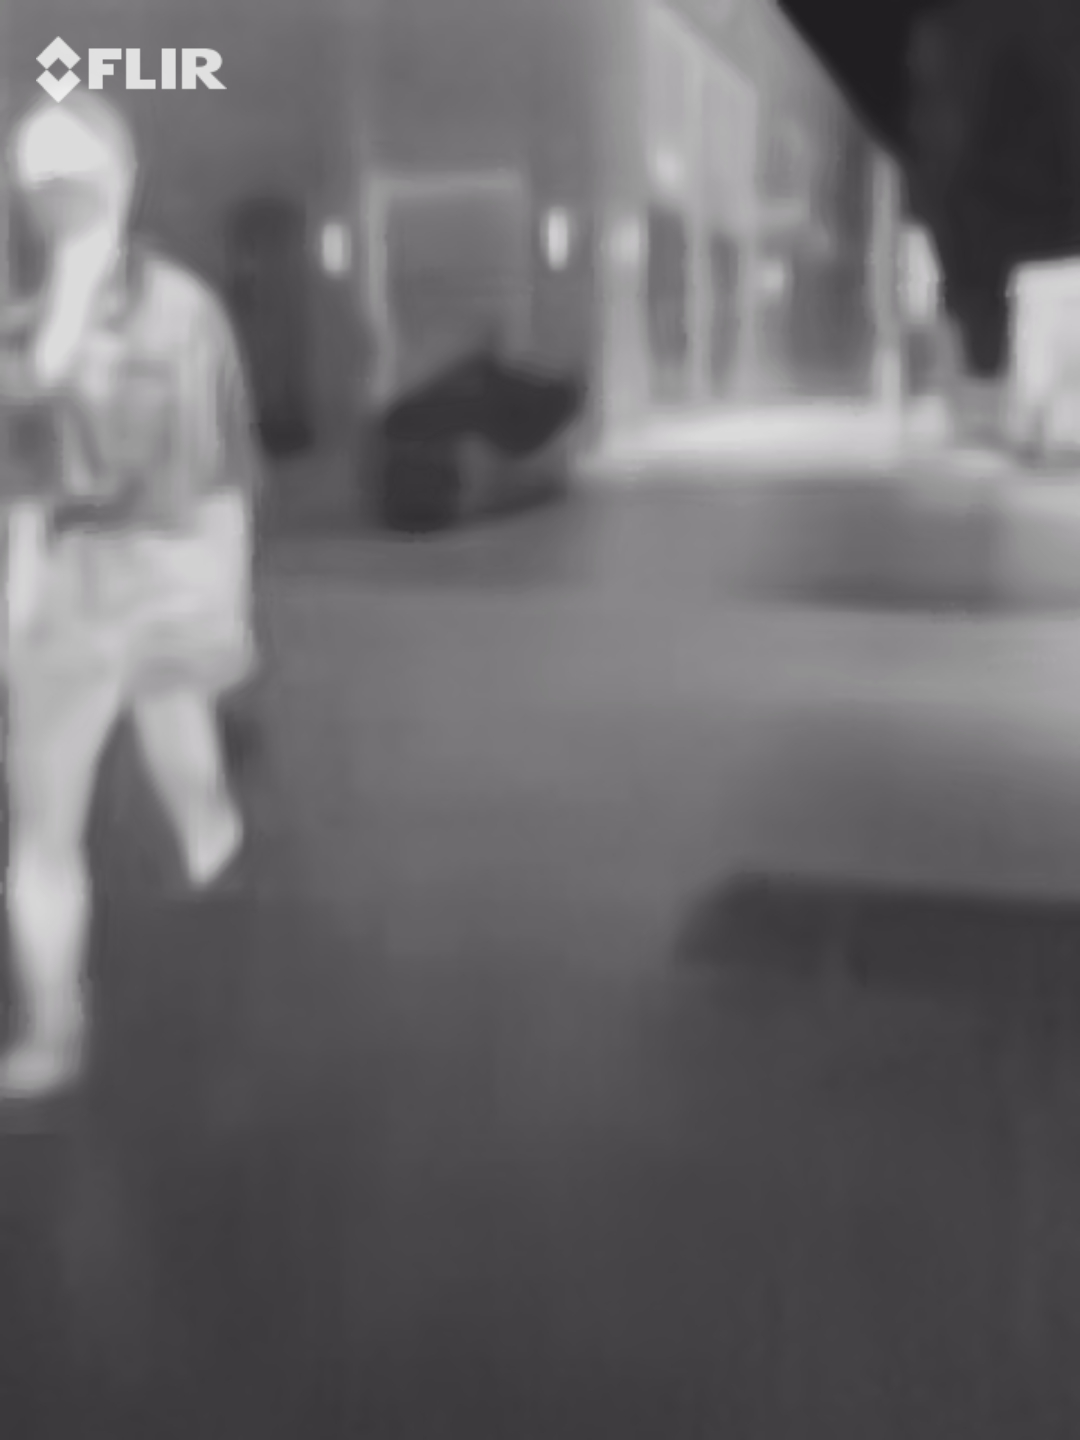head: (9, 91, 147, 265)
